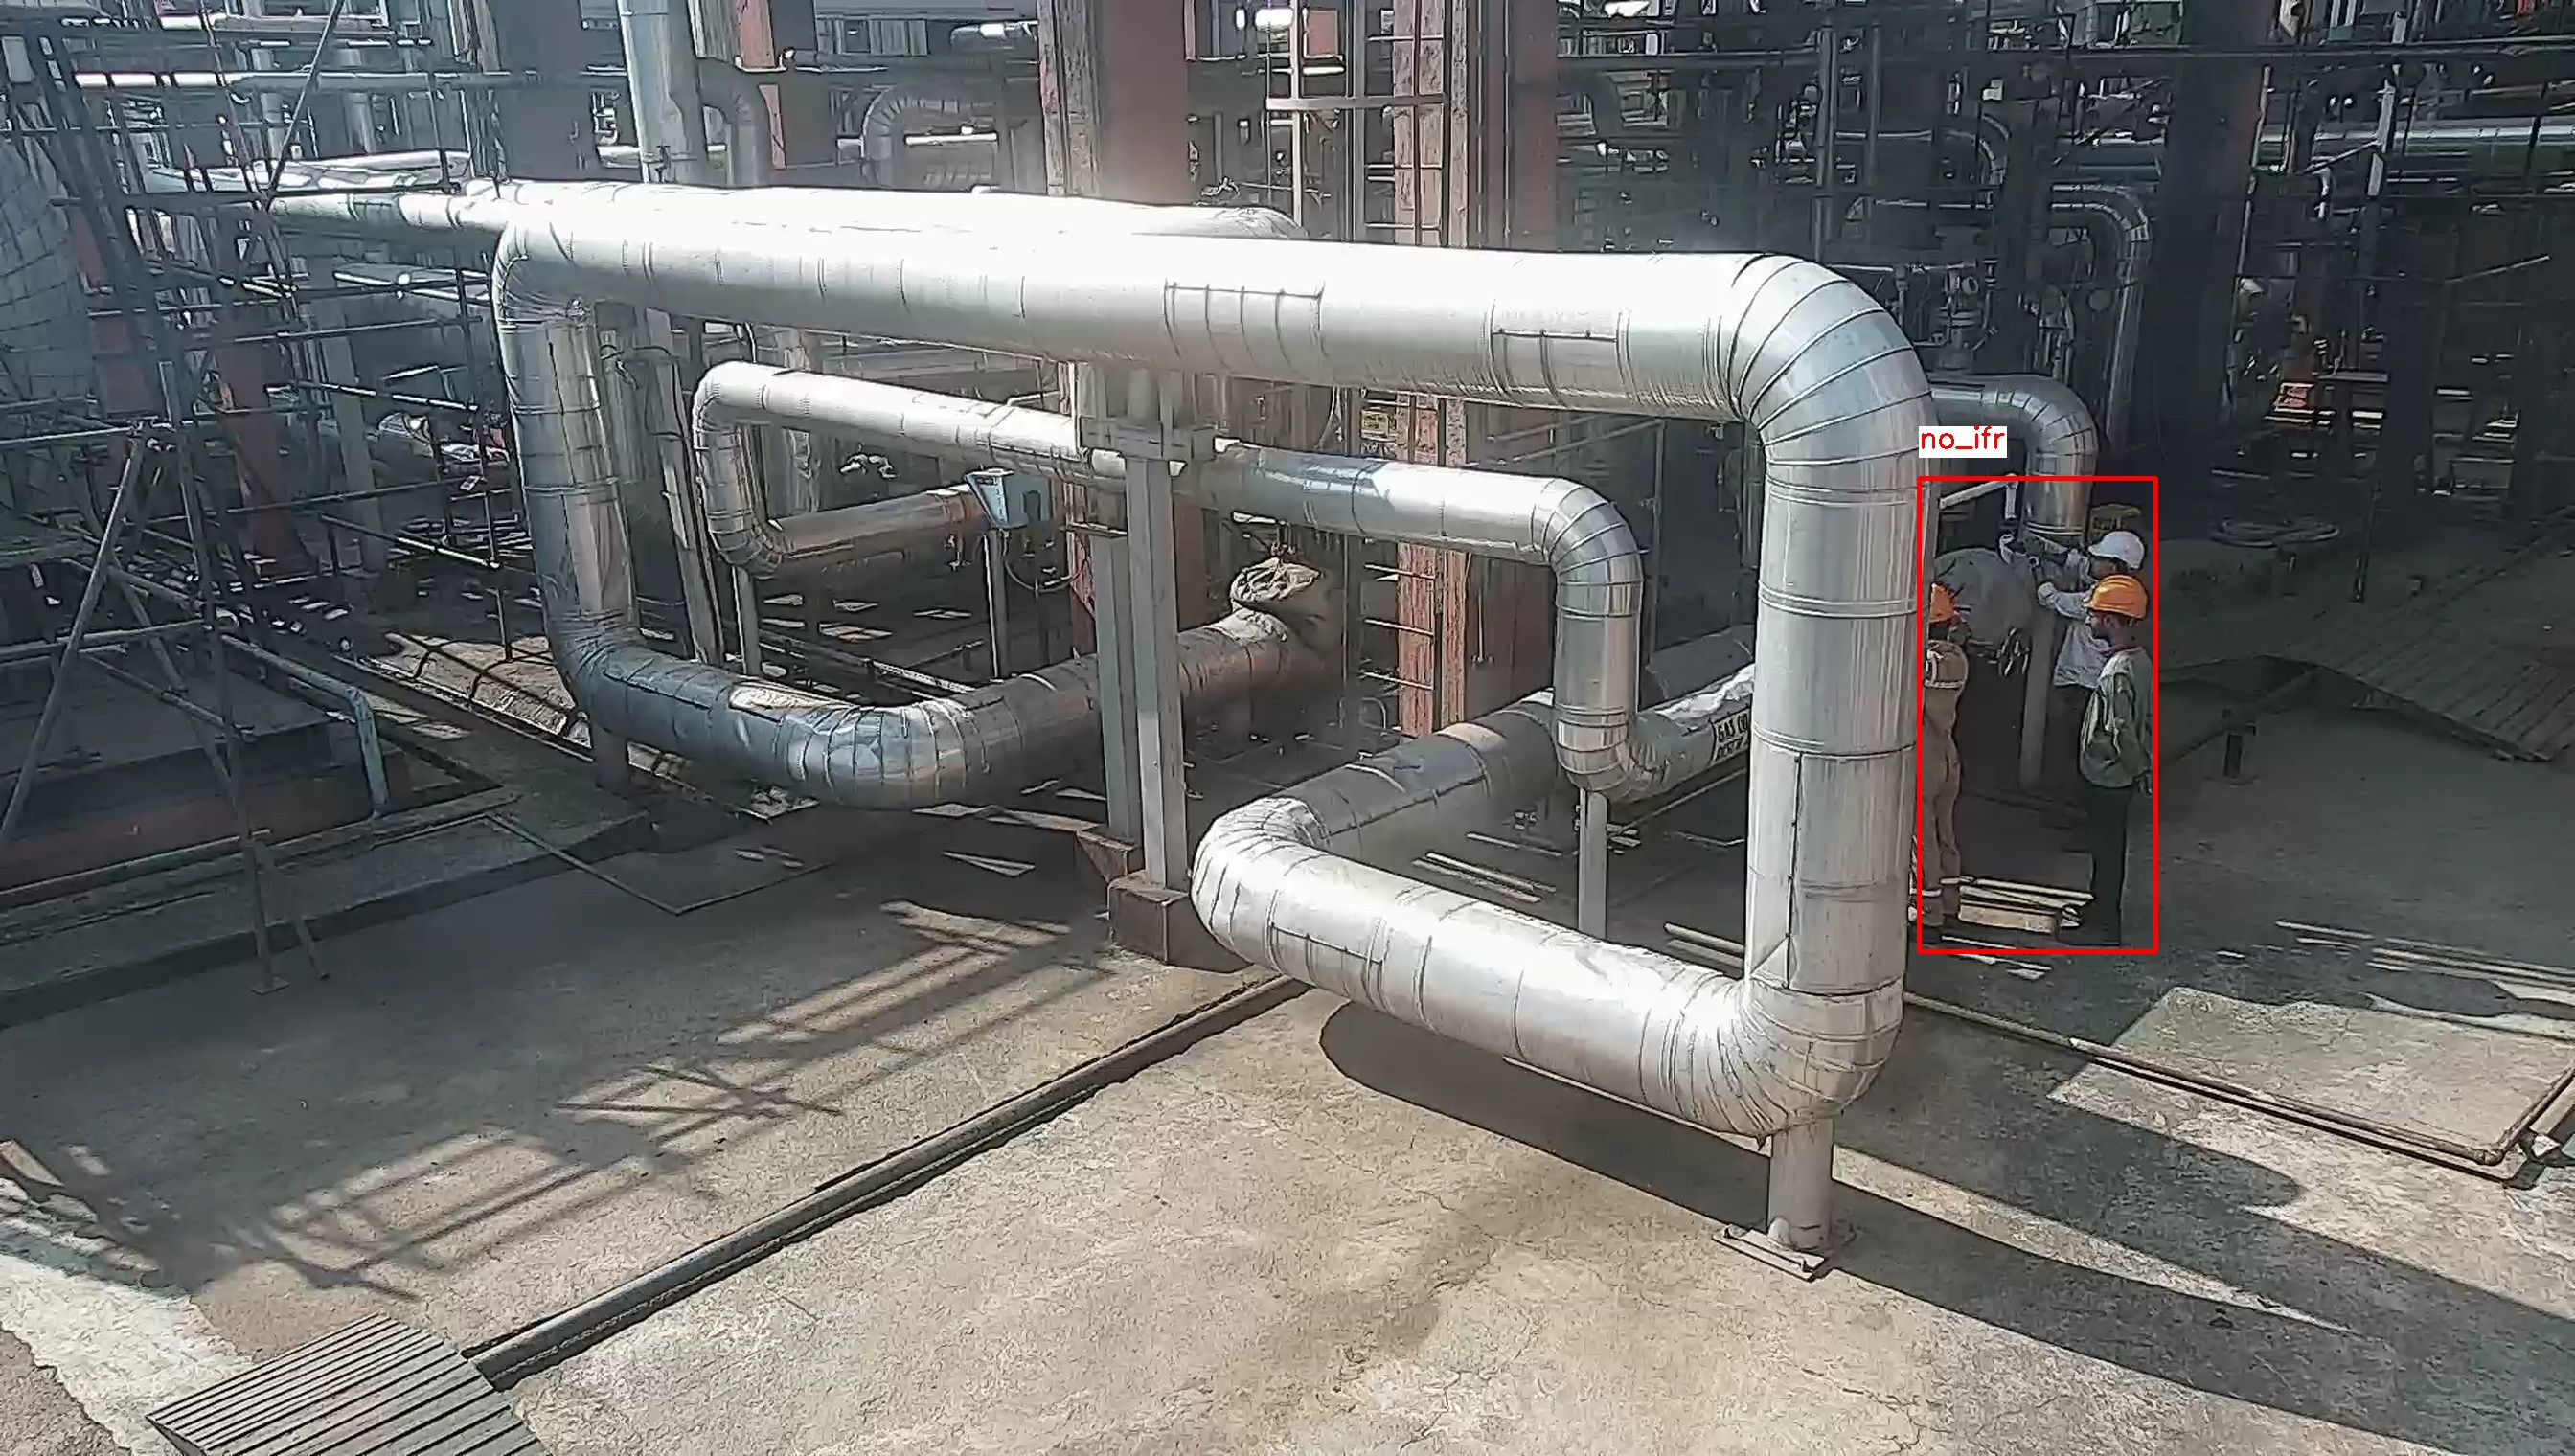Boots: (2050, 916, 2129, 950)
Helmets: (2078, 573, 2154, 617), (2076, 527, 2154, 570)
IFR_Suit: (1921, 642, 1967, 922)
